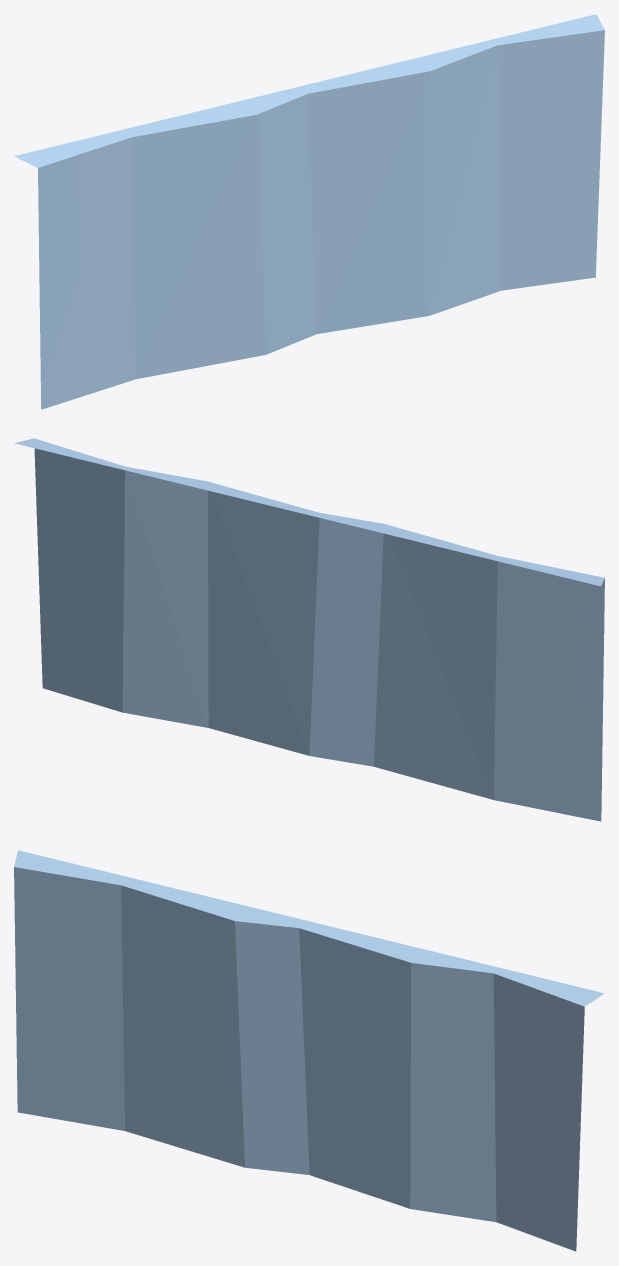
File: Terrain_Modular_Tiles_Waterfall_Small_01.fbx
3 views of the same model, one above another, from view 1: azimuth 30°, elevation 25°; view 2: azimuth 150°, elevation 25°; view 3: azimuth 330°, elevation 25° (orthographic).
Parts seen in each view (by area): view 1: Terrain_Modular_Tiles_Waterfall_Small_01; view 2: Terrain_Modular_Tiles_Waterfall_Small_01; view 3: Terrain_Modular_Tiles_Waterfall_Small_01.
Part boxes in pixels (x1,y1,x2,y2): Terrain_Modular_Tiles_Waterfall_Small_01: (14, 14, 604, 409); Terrain_Modular_Tiles_Waterfall_Small_01: (14, 438, 604, 821); Terrain_Modular_Tiles_Waterfall_Small_01: (14, 850, 604, 1251).
Size of the model in its own units: 59.06 by 24.2 by 2.51.
